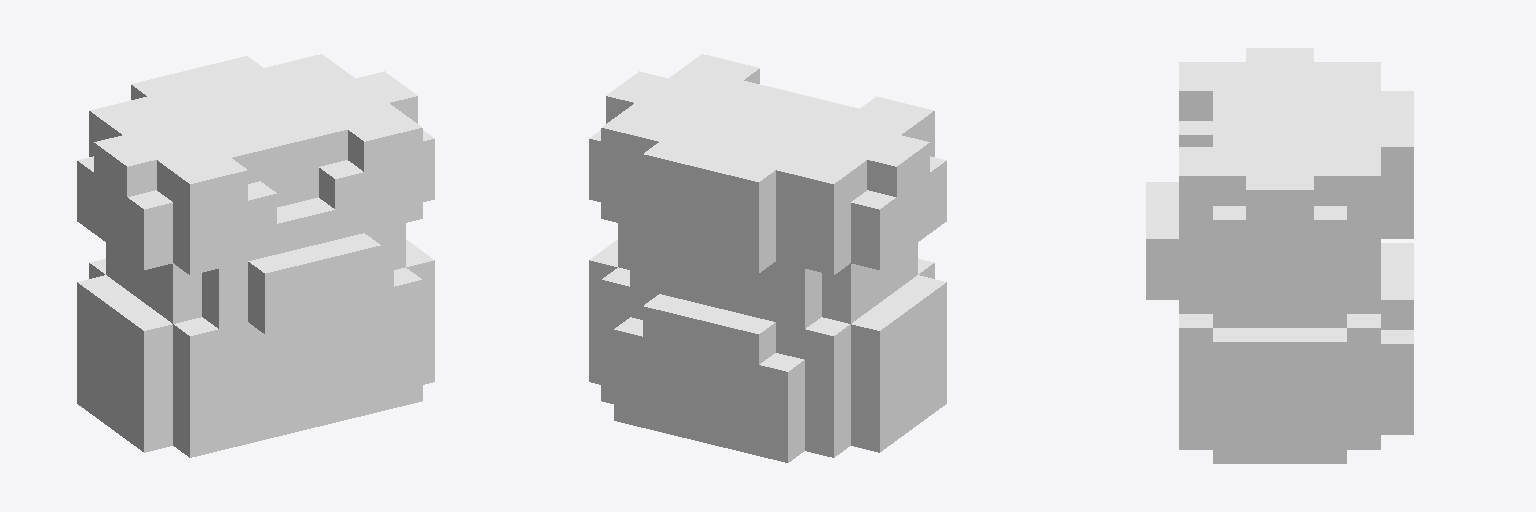
The model's file is humantemplatebody.obj.
3 views of the same model, side by side, from view 1: azimuth 30°, elevation 25°; view 2: azimuth 150°, elevation 25°; view 3: azimuth 270°, elevation 25° (orthographic).
Bounding box in the file's own units: 10 × 9 × 8.